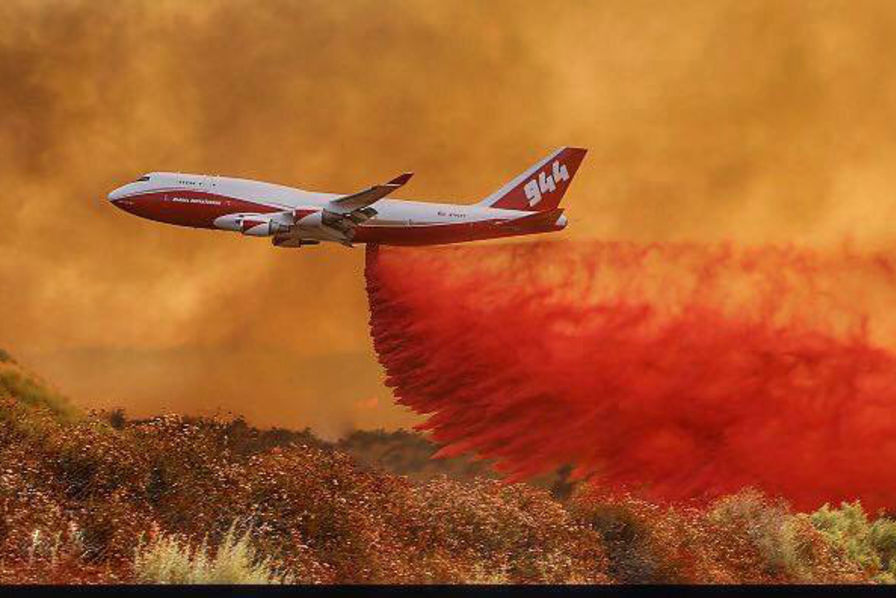Aeronef_de_service: (86, 145, 607, 260)
